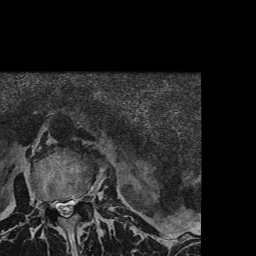CCS_normal: (62, 192, 69, 223)
LFS_stenosis: (76, 185, 84, 210)
LLS_stenosis: (70, 190, 77, 217)
RFS_normal: (44, 190, 53, 216)
RLS_normal: (53, 191, 62, 220)
